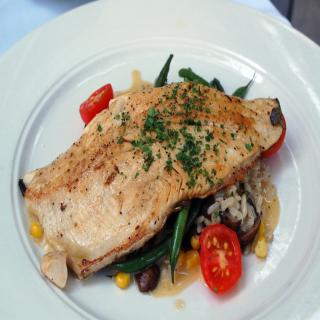tomato: (198, 224, 243, 297), (76, 80, 114, 122)
